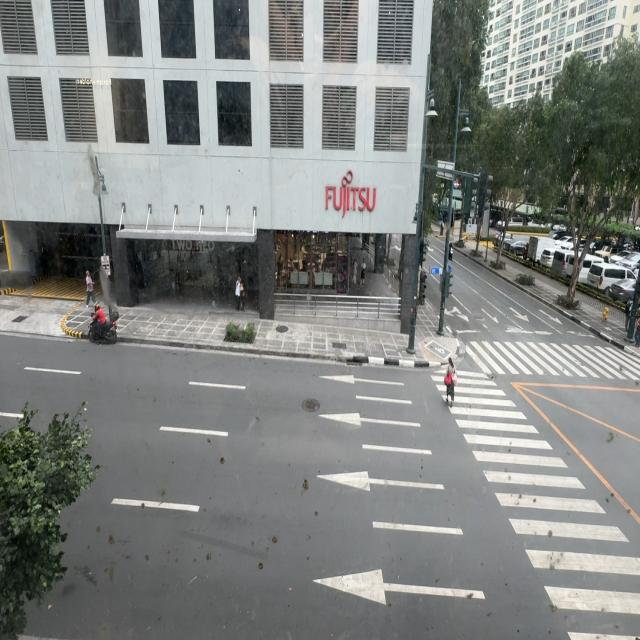crossing: (443, 354, 458, 404)
